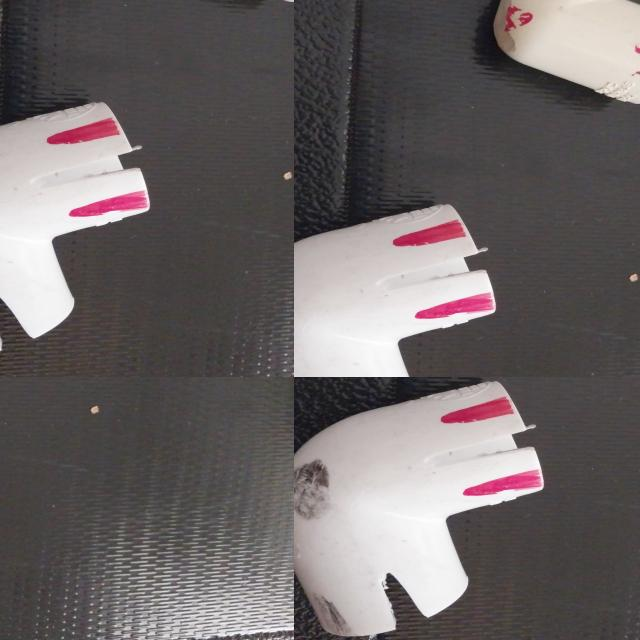Defective: (0, 197, 141, 270), (357, 548, 443, 634), (442, 471, 562, 505), (294, 462, 356, 523), (440, 403, 521, 439), (0, 0, 14, 59)
L Joint: (294, 381, 545, 640), (0, 170, 204, 377)
